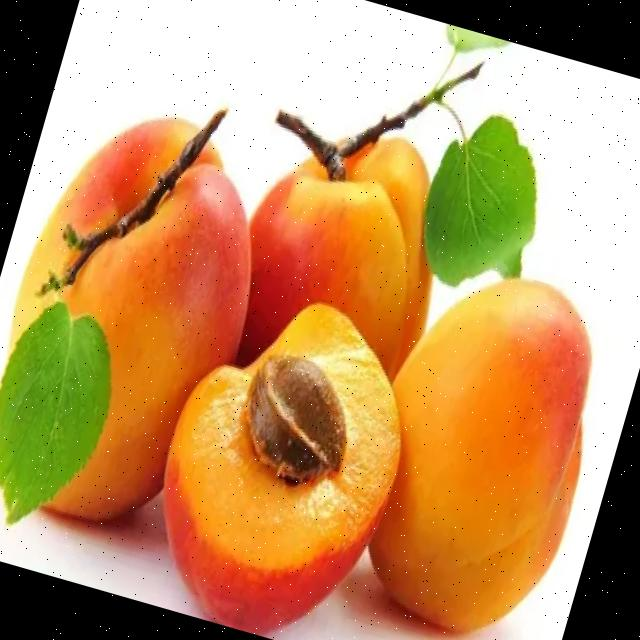Cekirdek: (249, 354, 346, 481)
Kayisi: (0, 118, 249, 519)
Yaprak: (423, 115, 536, 284)
